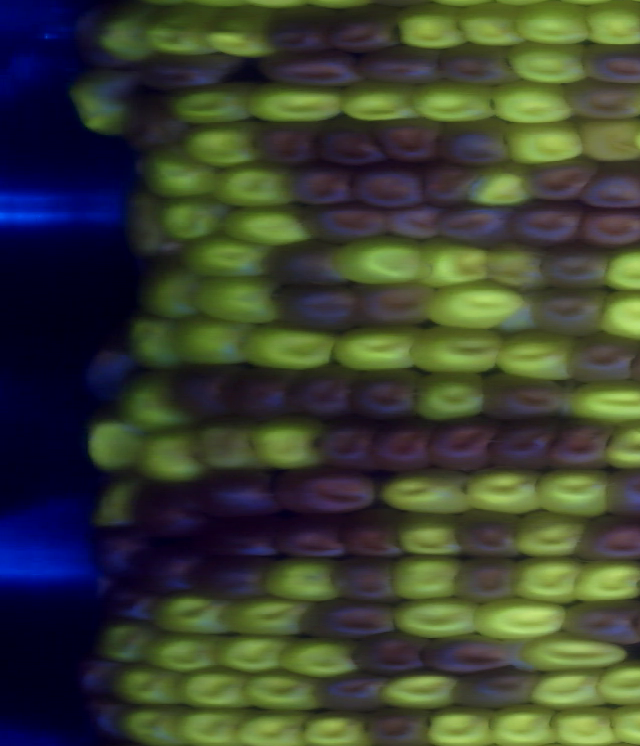fluorescent: (183, 270, 286, 334), (417, 276, 528, 335), (233, 320, 343, 376), (406, 321, 508, 381), (61, 72, 146, 142), (237, 76, 351, 128), (331, 230, 430, 289), (373, 462, 473, 520), (109, 369, 192, 438), (525, 463, 618, 524), (493, 325, 583, 387), (518, 630, 634, 678), (197, 1, 281, 67), (246, 410, 334, 473), (187, 414, 270, 479), (329, 322, 427, 377), (502, 548, 587, 611), (466, 593, 571, 644), (178, 229, 273, 285), (409, 365, 492, 429), (216, 201, 318, 253), (387, 590, 489, 642), (216, 590, 319, 641), (117, 307, 192, 377), (139, 146, 230, 203), (170, 311, 259, 369), (409, 232, 496, 291), (457, 460, 545, 518), (87, 1, 159, 71), (130, 426, 210, 489), (177, 114, 265, 171), (74, 410, 150, 476), (205, 156, 296, 211), (139, 1, 218, 64), (133, 258, 206, 326), (496, 115, 589, 168), (507, 505, 593, 562), (486, 78, 582, 129), (139, 624, 228, 679), (383, 549, 465, 607), (169, 77, 262, 128), (375, 664, 468, 715), (258, 552, 344, 607), (334, 77, 426, 128), (509, 1, 603, 50), (150, 190, 232, 246), (144, 588, 233, 639), (463, 157, 538, 217), (238, 666, 328, 716), (502, 37, 590, 88), (405, 77, 498, 125), (86, 616, 167, 671), (210, 627, 292, 681), (392, 505, 467, 564), (101, 660, 191, 709), (479, 239, 552, 299), (525, 664, 616, 712), (116, 188, 178, 257), (389, 1, 465, 57), (276, 633, 361, 683), (571, 112, 640, 170), (566, 375, 640, 429), (174, 664, 257, 712), (454, 1, 529, 53), (566, 555, 640, 606), (483, 699, 561, 746), (419, 703, 504, 746), (170, 703, 254, 746), (82, 473, 144, 528), (546, 702, 622, 746), (575, 1, 640, 52), (297, 705, 377, 746), (228, 707, 312, 746), (113, 701, 183, 746), (593, 655, 640, 710), (598, 415, 640, 473), (602, 238, 640, 301), (608, 700, 640, 746)
nonfluorescent: (122, 475, 222, 545), (261, 462, 382, 518), (475, 369, 576, 429), (112, 85, 194, 158), (447, 658, 546, 718), (270, 273, 361, 337), (299, 593, 401, 649), (163, 357, 249, 423), (248, 47, 362, 96), (194, 464, 288, 523), (81, 520, 161, 589), (282, 359, 363, 427), (351, 274, 441, 335), (192, 545, 277, 609), (340, 361, 426, 424), (223, 360, 305, 425), (69, 344, 148, 411), (257, 504, 352, 559), (415, 627, 511, 681), (135, 48, 238, 98), (133, 534, 211, 600), (422, 414, 505, 476), (261, 237, 351, 294), (348, 624, 438, 681), (324, 554, 413, 611), (447, 503, 530, 563), (69, 1, 129, 81), (480, 417, 564, 474), (520, 153, 605, 209), (311, 115, 392, 173), (331, 502, 408, 563), (322, 2, 407, 57), (367, 111, 449, 168), (561, 327, 640, 386), (431, 116, 514, 172), (503, 196, 587, 251), (562, 594, 640, 653), (263, 3, 342, 61), (432, 201, 520, 253), (533, 238, 616, 293), (364, 419, 444, 476), (532, 282, 609, 341), (311, 667, 394, 721), (348, 160, 434, 212), (447, 549, 522, 608), (283, 155, 362, 209), (310, 420, 385, 476), (304, 203, 393, 250), (433, 42, 525, 87), (544, 416, 617, 472), (559, 75, 640, 125), (353, 44, 441, 90), (567, 508, 640, 563), (200, 518, 291, 562), (246, 120, 326, 170), (414, 158, 492, 208), (577, 157, 640, 216), (356, 702, 437, 746), (69, 693, 136, 743), (96, 573, 158, 627), (577, 202, 640, 255), (65, 652, 132, 701), (377, 204, 447, 250), (575, 40, 640, 89), (604, 460, 640, 525)
